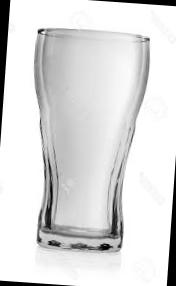glass: (6, 10, 166, 270)
